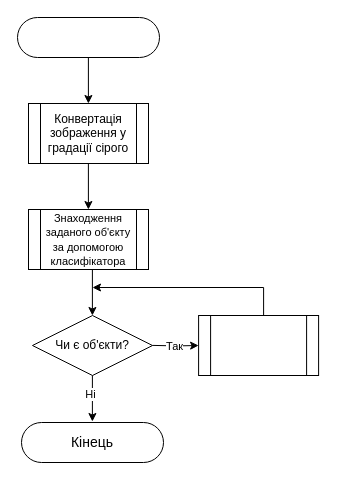
The diagram is 337 pixels wide and 480 high, and some of its shapes have lost their labels. Each missing label, with the centre of its shape:
"Відображення об'єкту" goes at point (258, 345).
"Початок" goes at point (88, 37).
